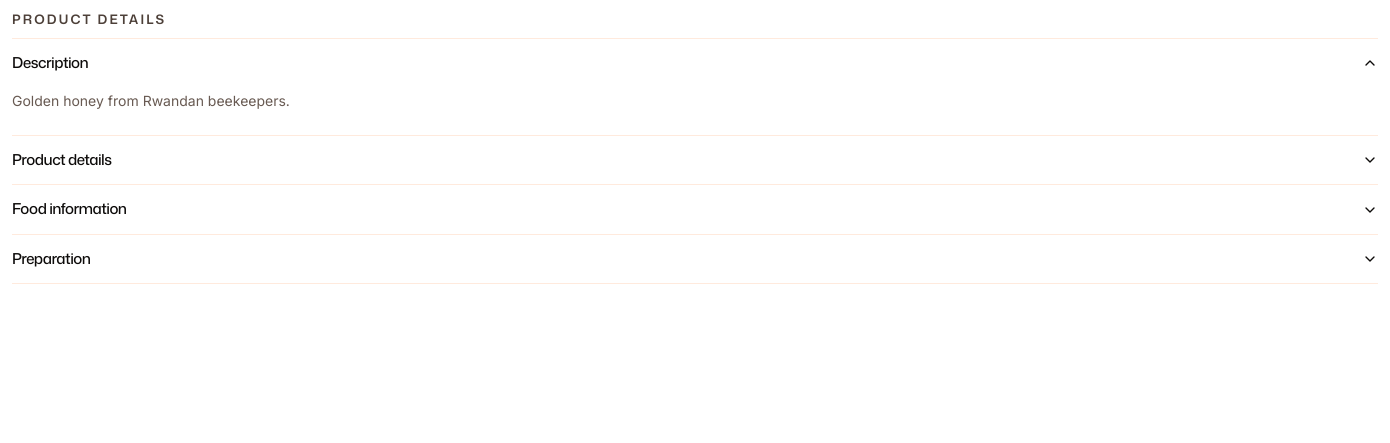
Scenario: ProductFacts › marks missing food information as unavailable
Click the button "Food information". click: (69, 209)
box: top-left (12, 185), bottom-right (1378, 234)
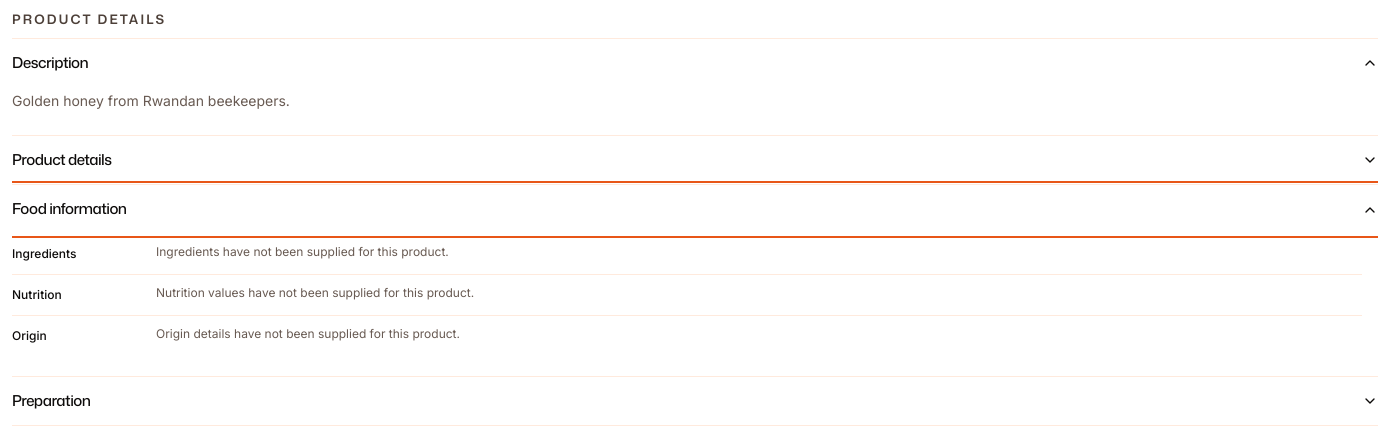
Expected: the text "Ingredients have not been supplied for this product." is shown, top-left (156, 244), bottom-right (449, 259)
Expected: the text "Nutrition values have not been supplied for this product." is shown, top-left (156, 285), bottom-right (474, 300)
Expected: the text "Origin details have not been supplied for this product." is shown, top-left (156, 326), bottom-right (460, 341)
